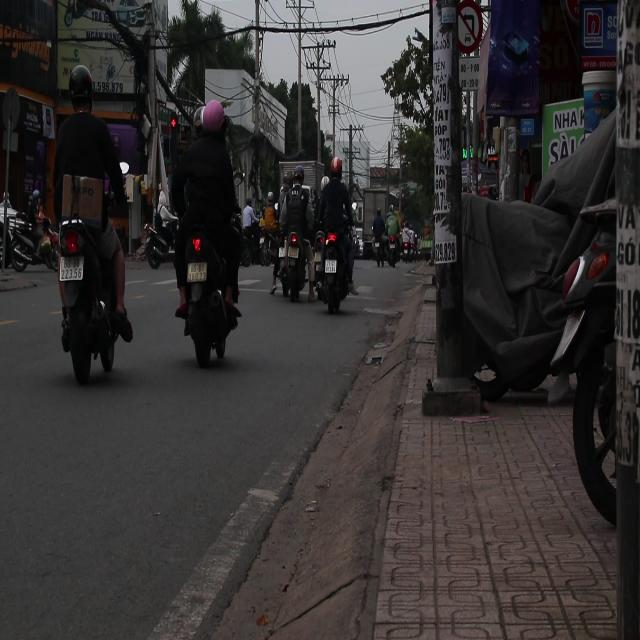motorbike: (56, 214, 118, 382), (183, 243, 240, 369), (284, 220, 314, 324), (322, 223, 351, 319), (2, 198, 38, 272), (137, 214, 176, 268)
